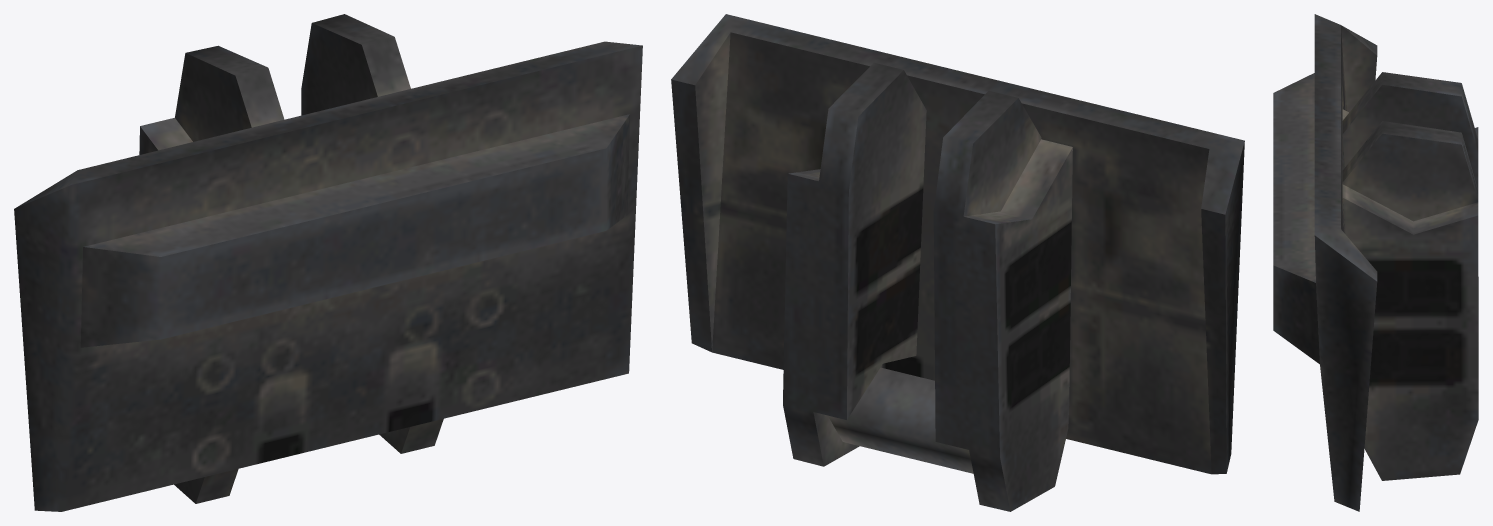
3 views of the same model, side by side, from view 1: azimuth 30°, elevation 25°; view 2: azimuth 150°, elevation 25°; view 3: azimuth 270°, elevation 25° (orthographic). The views are drawn at different scales.
Parts seen in each view (by area): view 1: set_0_group_0; view 2: set_0_group_0; view 3: set_0_group_0.
Boxes of the visible parts, x1=… form: set_0_group_0: x1=14, y1=14, x2=642, y2=511; set_0_group_0: x1=671, y1=14, x2=1244, y2=511; set_0_group_0: x1=1273, y1=14, x2=1478, y2=511.
Size of the model in its own units: 0.3341 by 0.2189 by 0.1225.
1 material, 1 textured.
